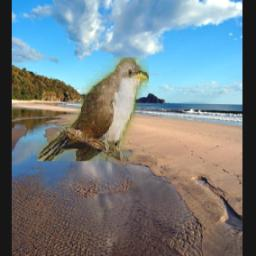Cuckoo: (37, 58, 149, 162)
